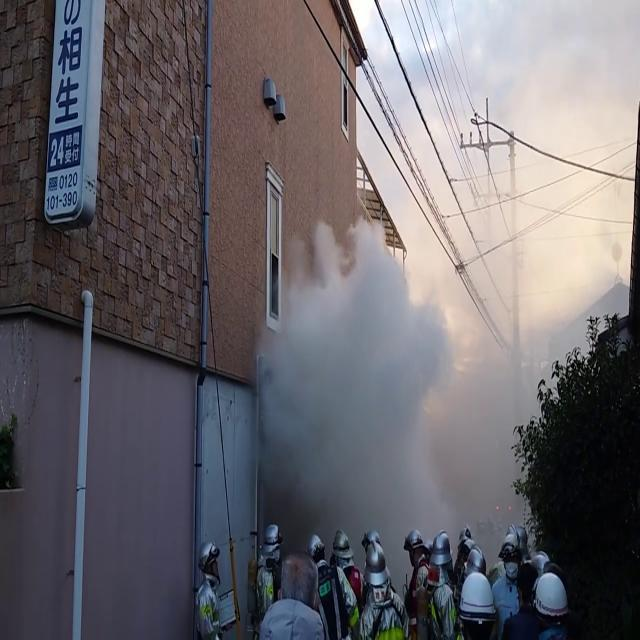Smoke: (260, 180, 546, 544)
